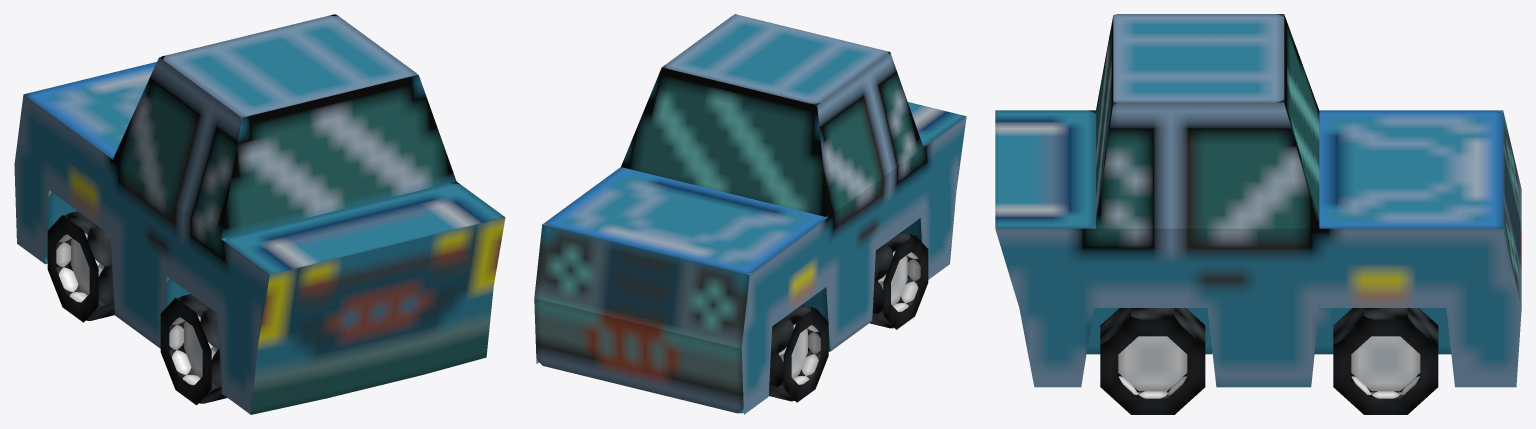
The model's file is Basic_Car.fbx.
The picture shows the model from 3 angles, left to right: view 1: azimuth 30°, elevation 25°; view 2: azimuth 150°, elevation 25°; view 3: azimuth 270°, elevation 25°; orthographic projection. The views are drawn at different scales.
Visible parts, largest first — view 1: Body, cylinder_2, cylinder_1; view 2: Body, cylinder_2, cylinder_1; view 3: Body, cylinder, cylinder_3.
Boxes of the visible parts, x1,y1,x2,y2 form: Body: (14, 14, 505, 414); cylinder_2: (47, 211, 114, 322); cylinder_1: (160, 294, 227, 405); Body: (534, 14, 966, 414); cylinder_2: (769, 304, 828, 402); cylinder_1: (869, 232, 928, 329); Body: (995, 14, 1521, 387); cylinder: (1100, 308, 1205, 414); cylinder_3: (1333, 308, 1438, 414).
Bounding box in the file's own units: 106 × 116 × 188.
Materials: 1 (1 with a texture image).
